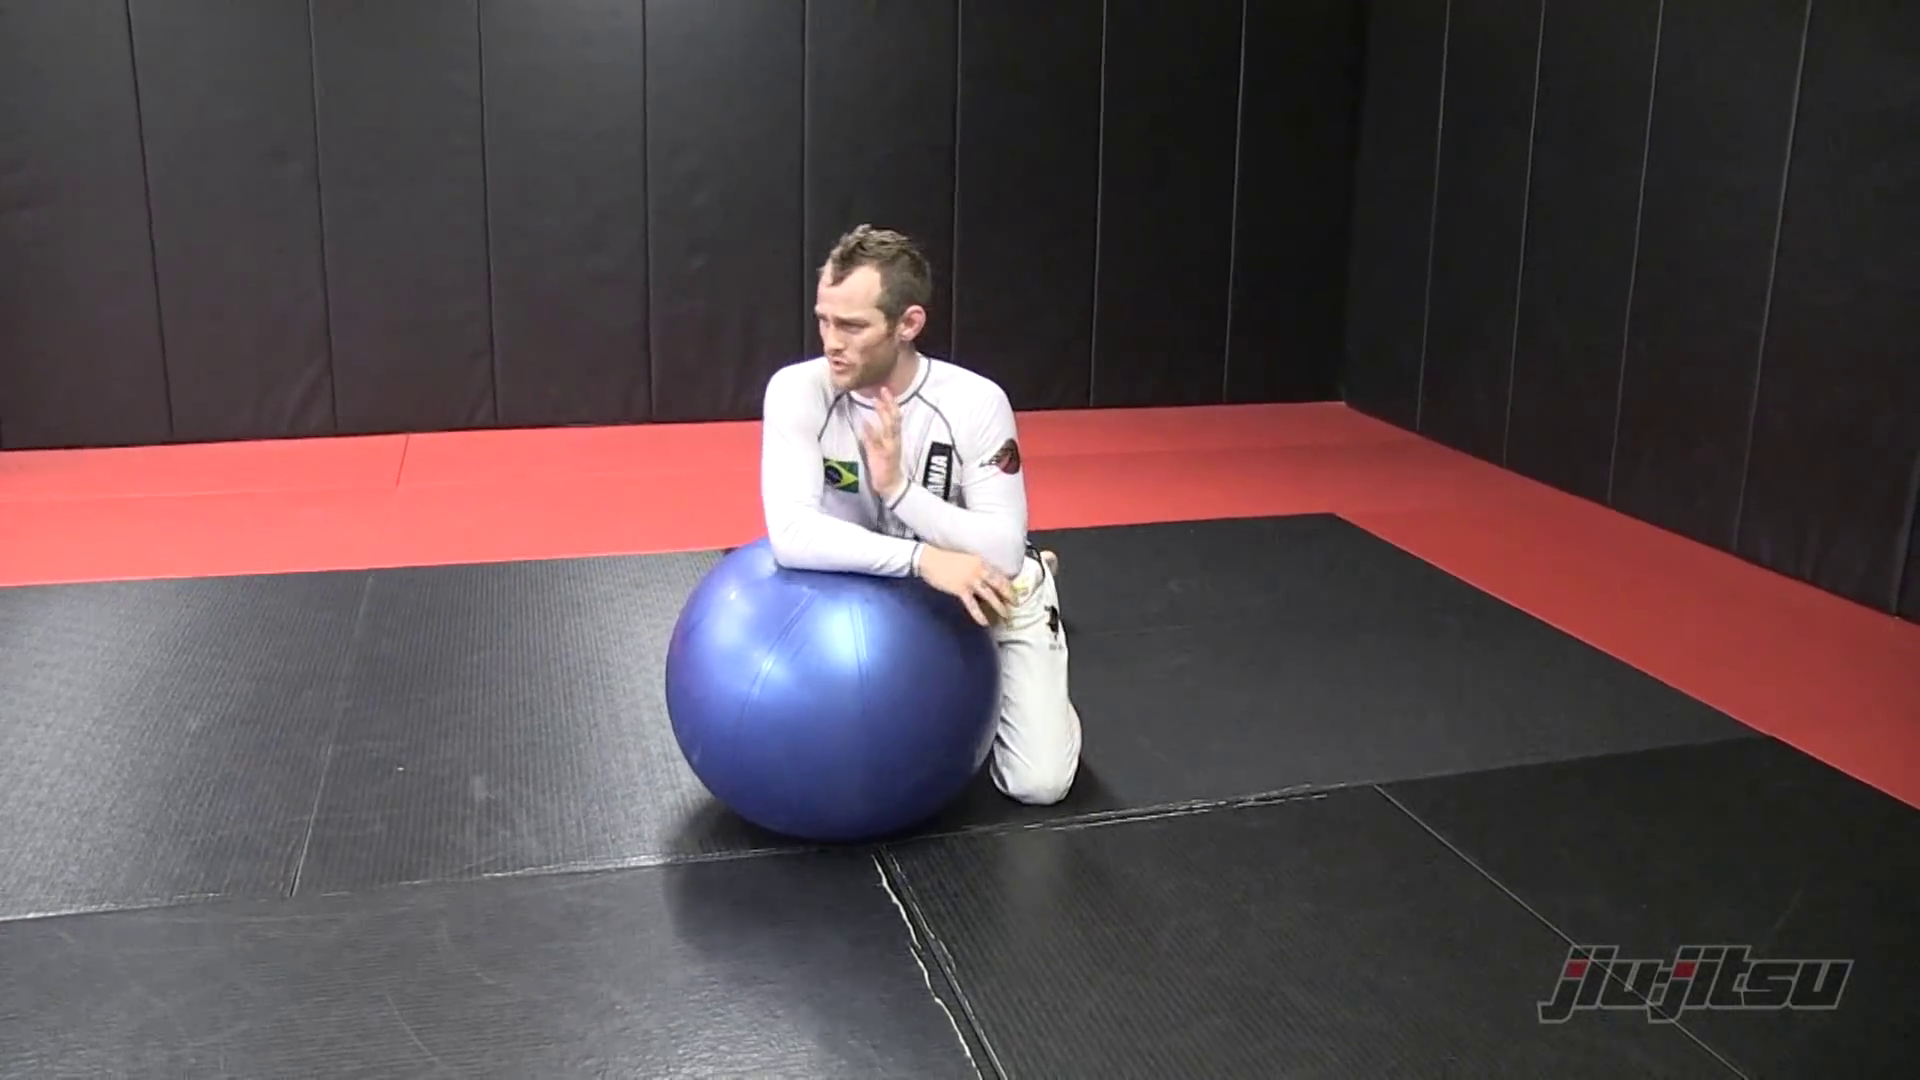yogaball: (644, 535, 1025, 843)
